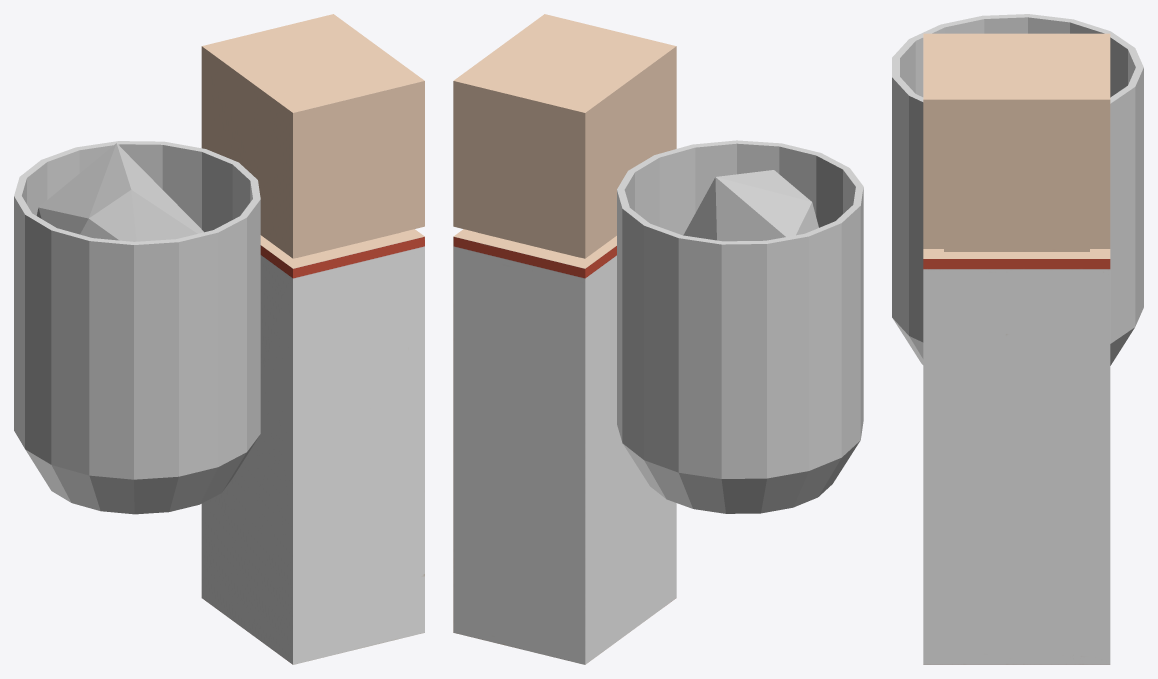
File: MineWorker.fbx
The picture shows the model from 3 angles, left to right: view 1: azimuth 30°, elevation 25°; view 2: azimuth 150°, elevation 25°; view 3: azimuth 270°, elevation 25°; orthographic projection. The views are drawn at different scales.
Visible parts, largest first — view 1: Cube, Cylinder, Rock_01; view 2: Cube, Cylinder, Rock_01; view 3: Cube, Cylinder.
Part boxes in pixels (x1,y1,x2,y2): Cube: [201, 14, 424, 664]; Cylinder: [14, 141, 260, 514]; Rock_01: [36, 143, 203, 241]; Cube: [453, 14, 676, 664]; Cylinder: [617, 140, 863, 513]; Rock_01: [683, 170, 818, 241]; Cube: [923, 33, 1110, 664]; Cylinder: [892, 14, 1143, 365].
Bounding box in the file's own units: 66.07 × 100 × 40.36.
